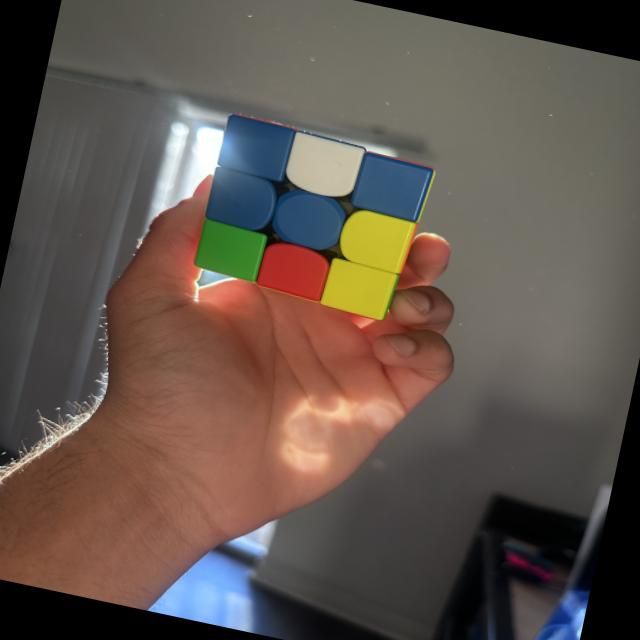sticker: (346, 148, 436, 228), (280, 129, 367, 204), (216, 111, 299, 185), (332, 206, 417, 276), (267, 184, 350, 255), (250, 234, 334, 304), (202, 165, 284, 236), (317, 255, 401, 322), (191, 218, 269, 284)
